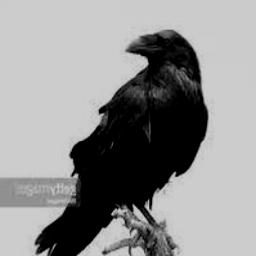Crow: (35, 28, 210, 256)
